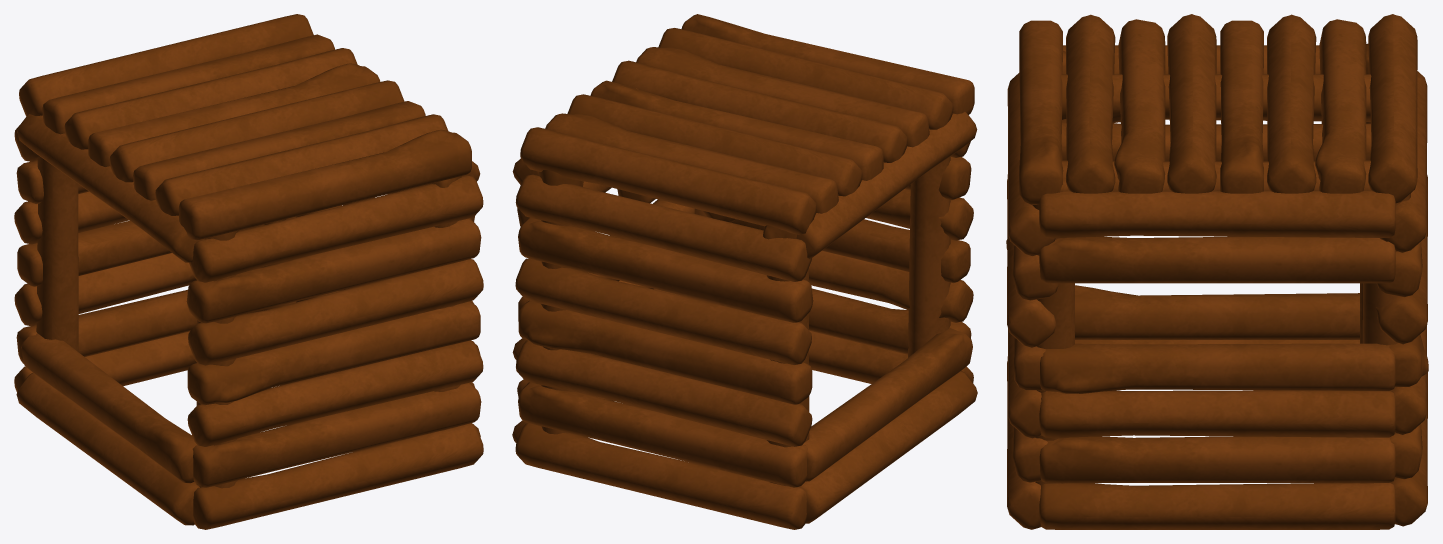
The model's file is bunker.fbx.
3 renders of one model, left to right at view 1: azimuth 30°, elevation 25°; view 2: azimuth 150°, elevation 25°; view 3: azimuth 270°, elevation 25°, orthographic. The views are drawn at different scales.
Visible parts, largest first — view 1: bunker; view 2: bunker; view 3: bunker.
Boxes of the visible parts, x1,y1,x2,y2 form: bunker: (14, 14, 483, 529); bunker: (512, 14, 977, 529); bunker: (1006, 14, 1428, 529).
Size of the model in its own units: 156 by 160 by 167.
